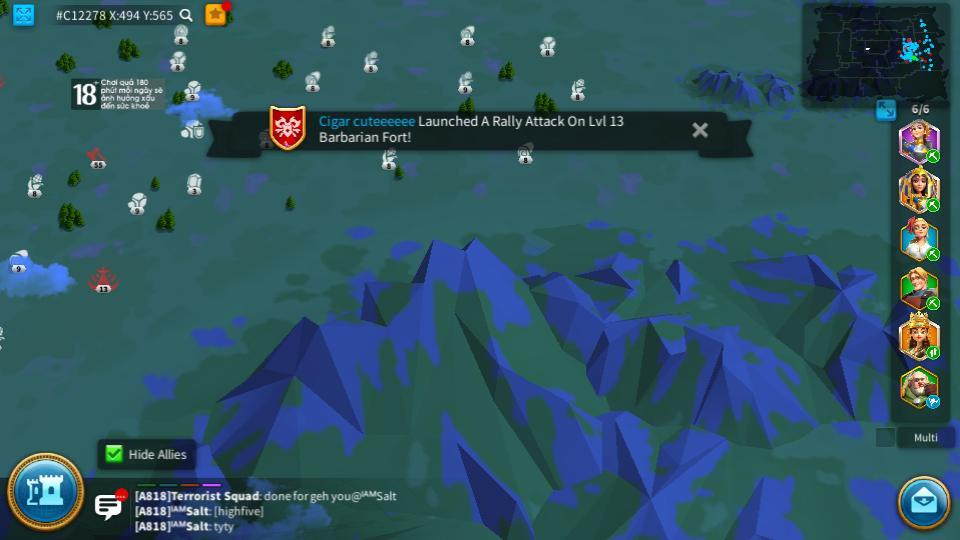gem-z-out: (184, 172, 202, 194), (172, 25, 189, 43), (458, 70, 474, 84)
march_idle: (925, 396, 942, 408)
march_marching: (925, 197, 941, 212), (925, 345, 941, 359), (925, 297, 942, 309), (925, 150, 941, 162), (925, 248, 941, 260)
